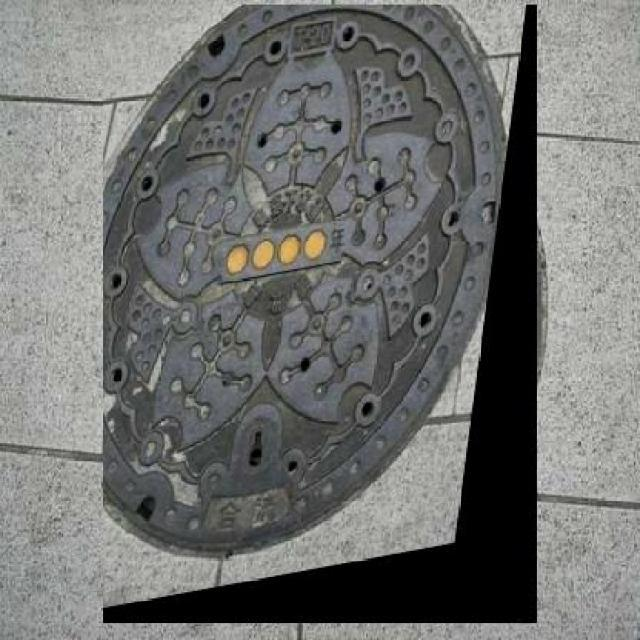Manhole: (105, 3, 539, 622)
